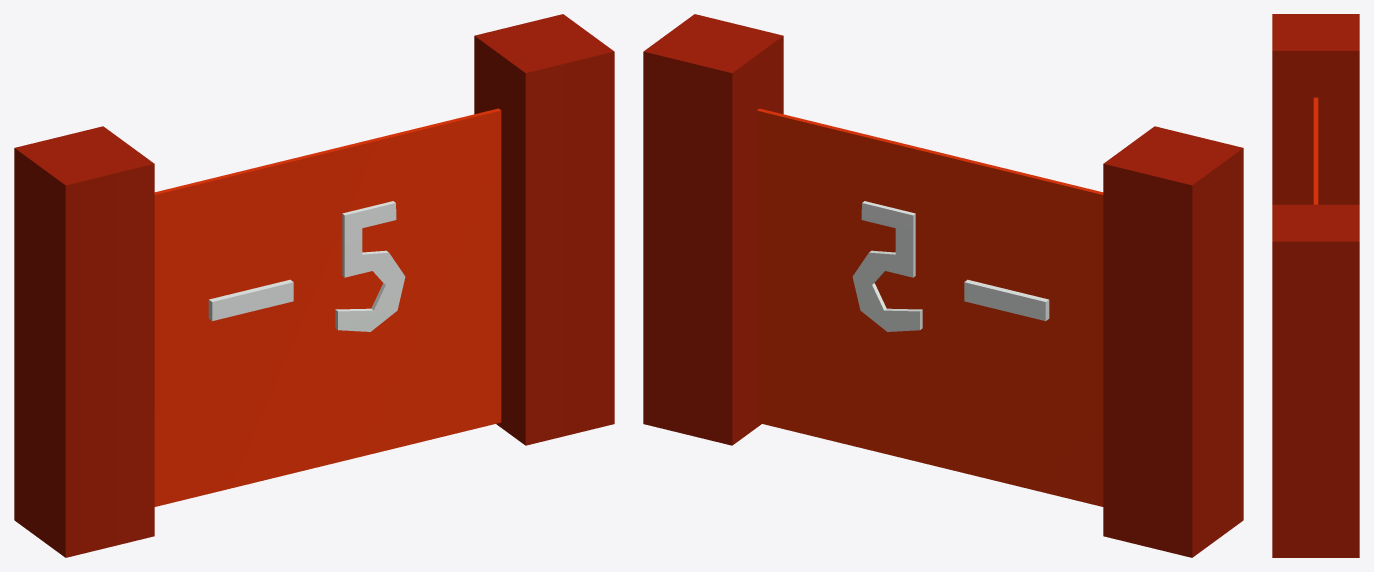
The model's file is minus_5_block_.fbx.
The picture shows the model from 3 angles, left to right: view 1: azimuth 30°, elevation 25°; view 2: azimuth 150°, elevation 25°; view 3: azimuth 270°, elevation 25°; orthographic projection. The views are drawn at different scales.
Parts seen in each view (by area): view 1: plus_block.001; view 2: plus_block.001; view 3: plus_block.001.
Boxes of the visible parts, x1,y1,x2,y2 form: plus_block.001: [14, 14, 614, 557]; plus_block.001: [643, 14, 1243, 557]; plus_block.001: [1272, 14, 1359, 557].
Size of the model in its own units: 3.09 by 2 by 0.4997.
